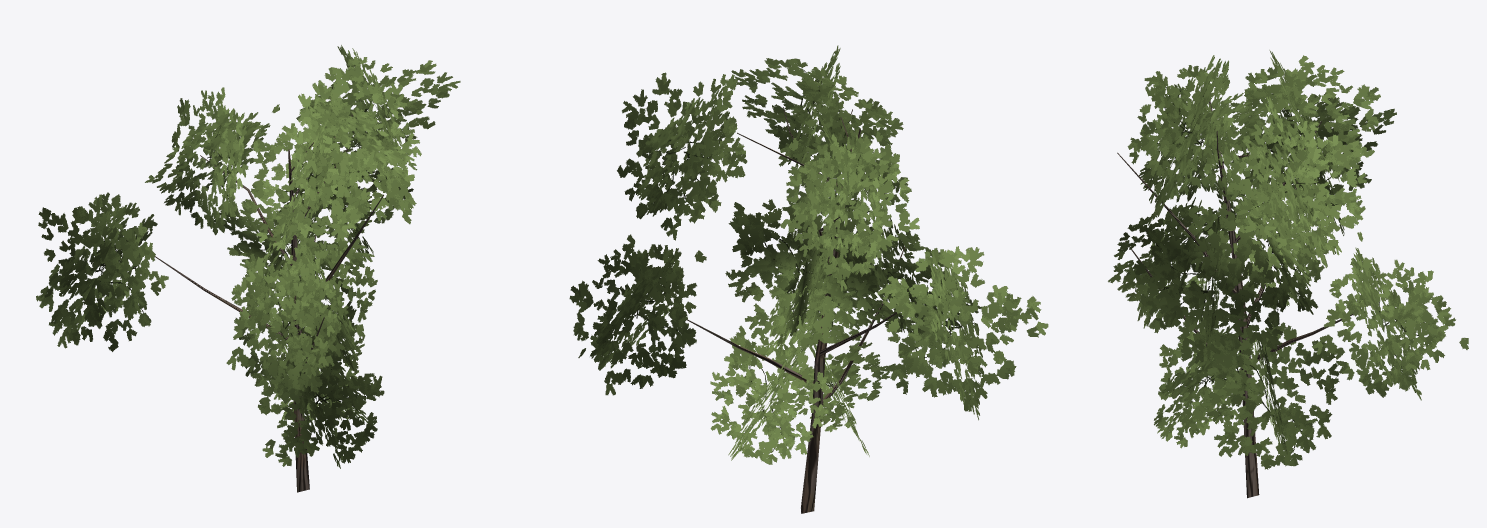
File: sapling-b.lod1.glb
3 views of the same model, side by side, from view 1: azimuth 30°, elevation 25°; view 2: azimuth 150°, elevation 25°; view 3: azimuth 270°, elevation 25° (orthographic). The views are drawn at different scales.
Visible parts, largest first — view 1: foliage, bark; view 2: foliage, bark; view 3: foliage, bark.
Part boxes in pixels (<box>): foliage: <box>36,45,460,468</box>; bark: <box>155,114,383,492</box>; foliage: <box>569,45,1048,464</box>; bark: <box>687,107,904,513</box>; foliage: <box>1108,50,1468,469</box>; bark: <box>1117,101,1353,498</box>.
Size of the model in its own units: 1.36 by 1.3 by 0.9478.
2 materials, 2 textured.
